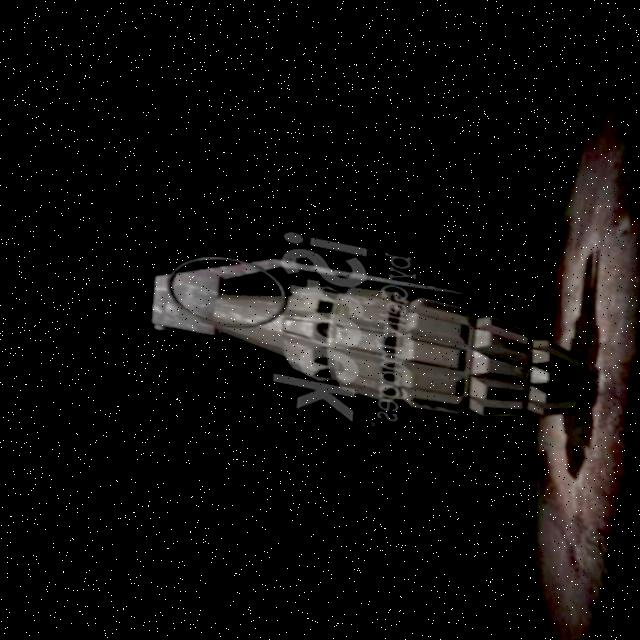grenade: (108, 202, 610, 468)
